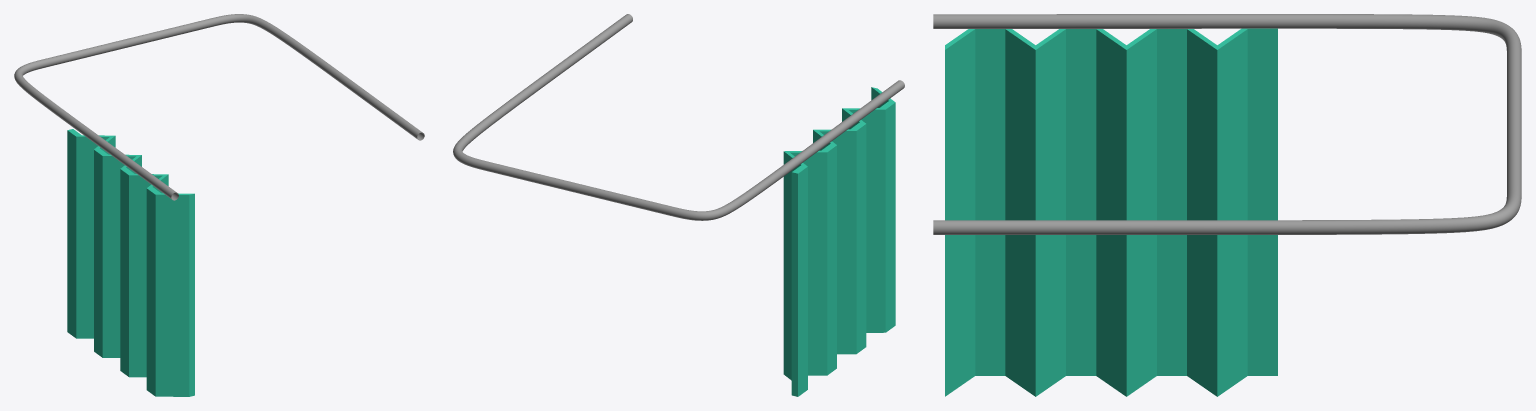
File: Infirmary Curtain.fbx
3 views of the same model, side by side, from view 1: azimuth 30°, elevation 25°; view 2: azimuth 150°, elevation 25°; view 3: azimuth 270°, elevation 25° (orthographic). The views are drawn at different scales.
Parts seen in each view (by area): view 1: Plane, NurbsPath; view 2: Plane, NurbsPath; view 3: Plane, NurbsPath.
Part boxes in pixels (x1,y1,x2,y2): Plane: [67, 129, 194, 396]; NurbsPath: [14, 14, 424, 200]; Plane: [783, 87, 895, 396]; NurbsPath: [453, 14, 904, 220]; Plane: [945, 28, 1277, 396]; NurbsPath: [933, 14, 1521, 234].
Size of the model in its own units: 930 by 729 by 1073.
